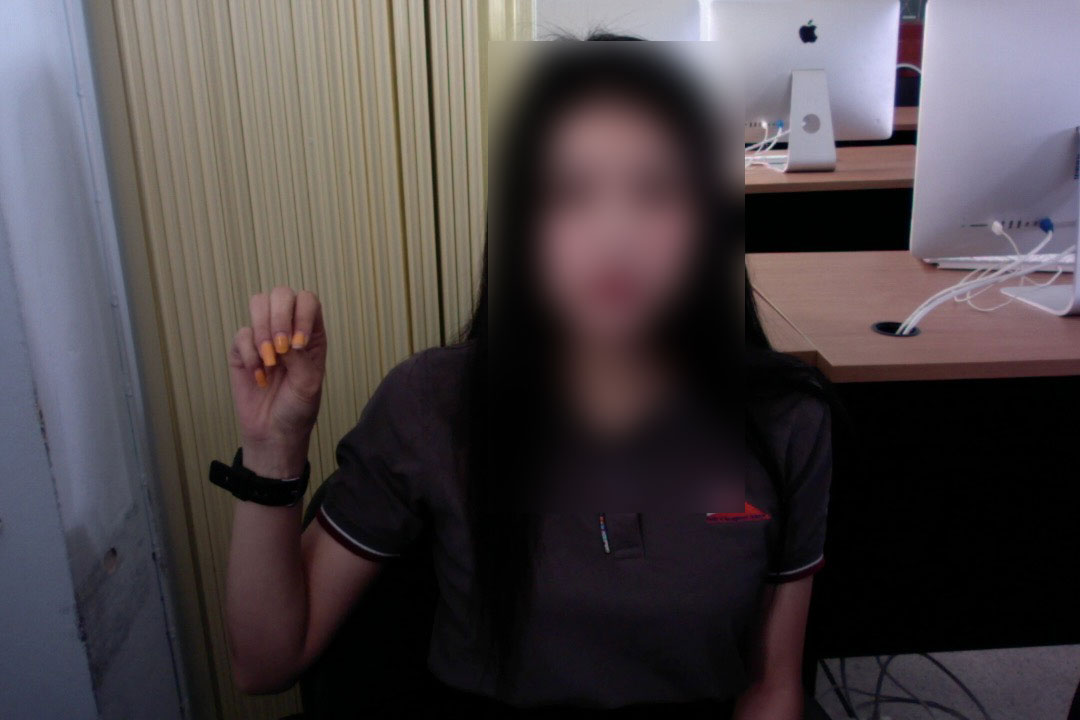mor: (219, 280, 337, 461)
